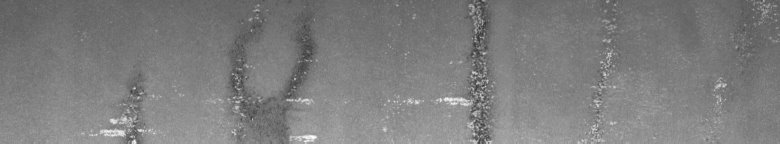hc: (383, 4, 495, 136)
